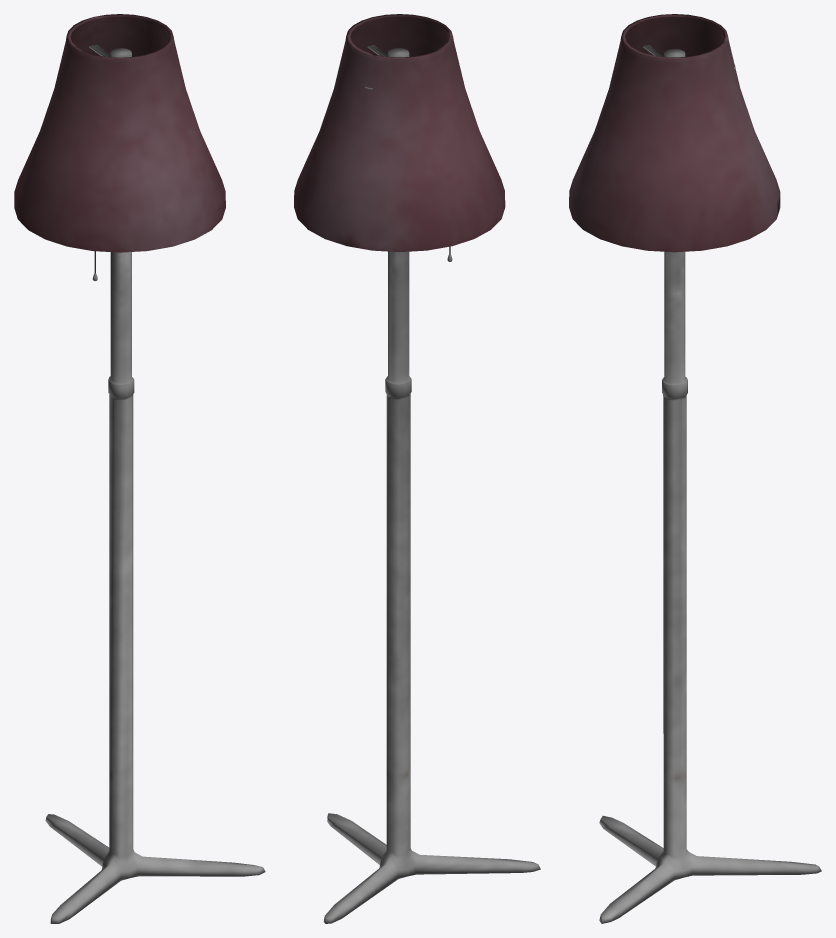
The model's file is floor_lamp_emergency_room_of_fear.glb.
3 renders of one model, left to right at view 1: azimuth 30°, elevation 25°; view 2: azimuth 150°, elevation 25°; view 3: azimuth 270°, elevation 25°, orthographic.
Visible parts, largest first — view 1: lampara2; view 2: lampara2; view 3: lampara2.
Part boxes in pixels (x1,y1,x2,y2): lampara2: [14, 14, 265, 923]; lampara2: [294, 14, 540, 923]; lampara2: [569, 14, 821, 923].
Size of the model in its own units: 0.5361 by 1.99 by 0.5477.
Materials: 1 (1 with a texture image).
